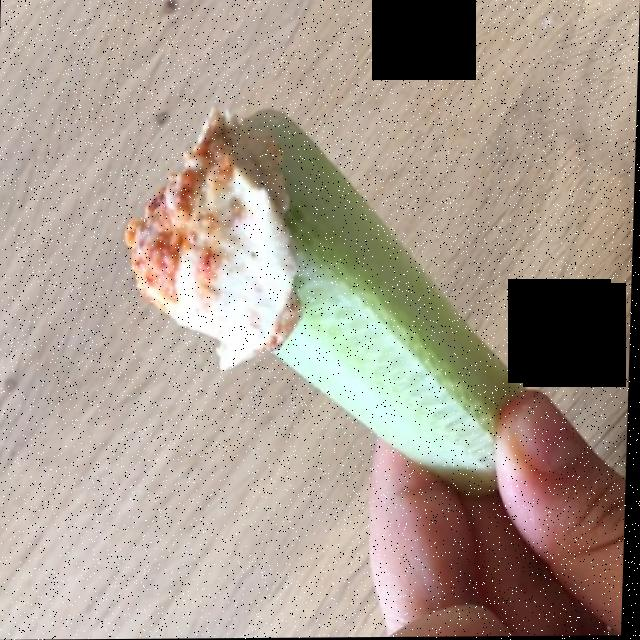cucumber: (249, 113, 516, 491)
hummus: (129, 114, 299, 365)
